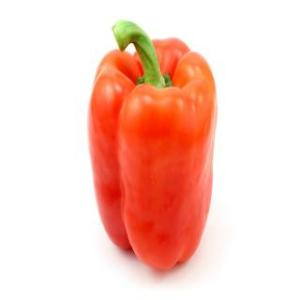bell_pepper: (85, 18, 220, 274)
